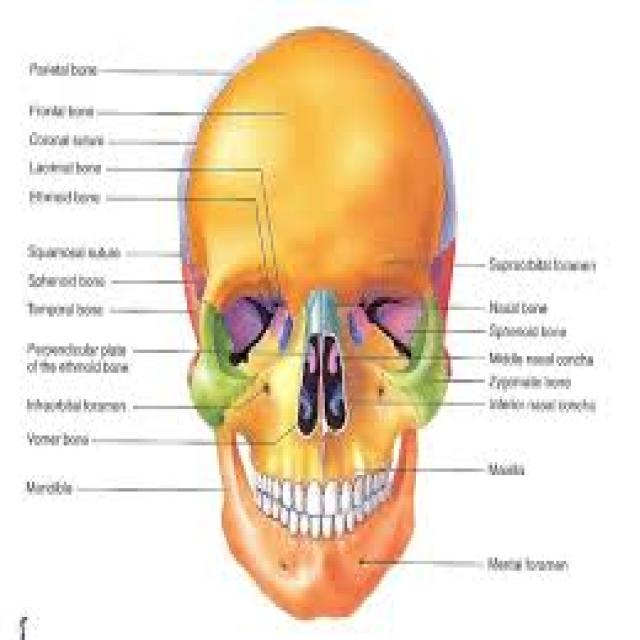skull: (169, 18, 458, 626)
